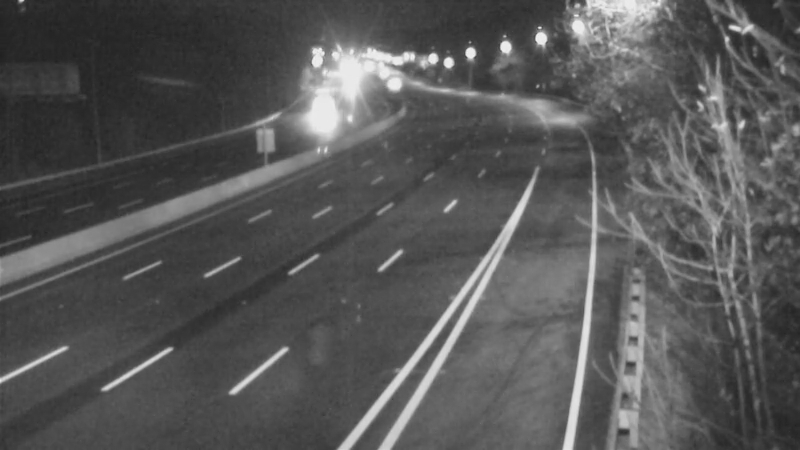vehicle: (368, 61, 418, 111), (296, 83, 346, 133)
